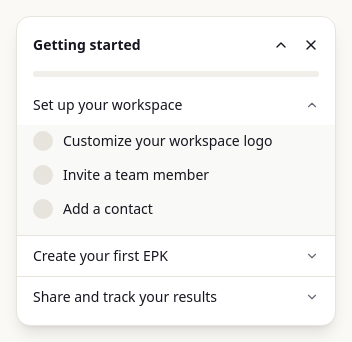
Test: OnboardingChecklist › opens a different group when its header is clicked, closing the previously open one
Click the button "Share and track your results" at {"x": 176, "y": 297}, box [17,277,335,317]
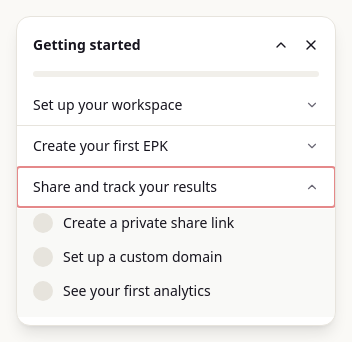
Expected: the link "Create a private share link" is shown, [63,213,234,233]
Expected: the link "Customize your workspace logo" is gone
